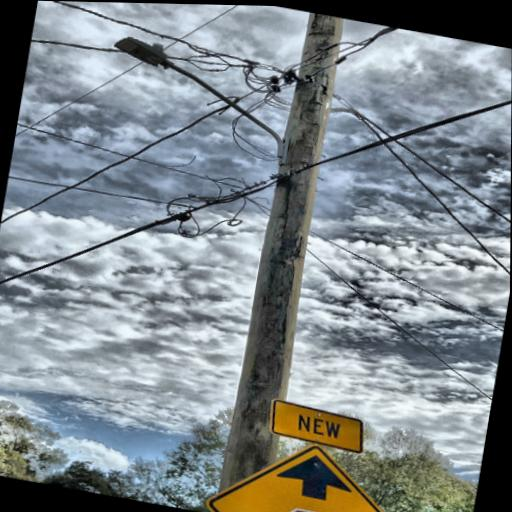pole: (217, 9, 359, 512)
street light: (97, 26, 306, 169)
